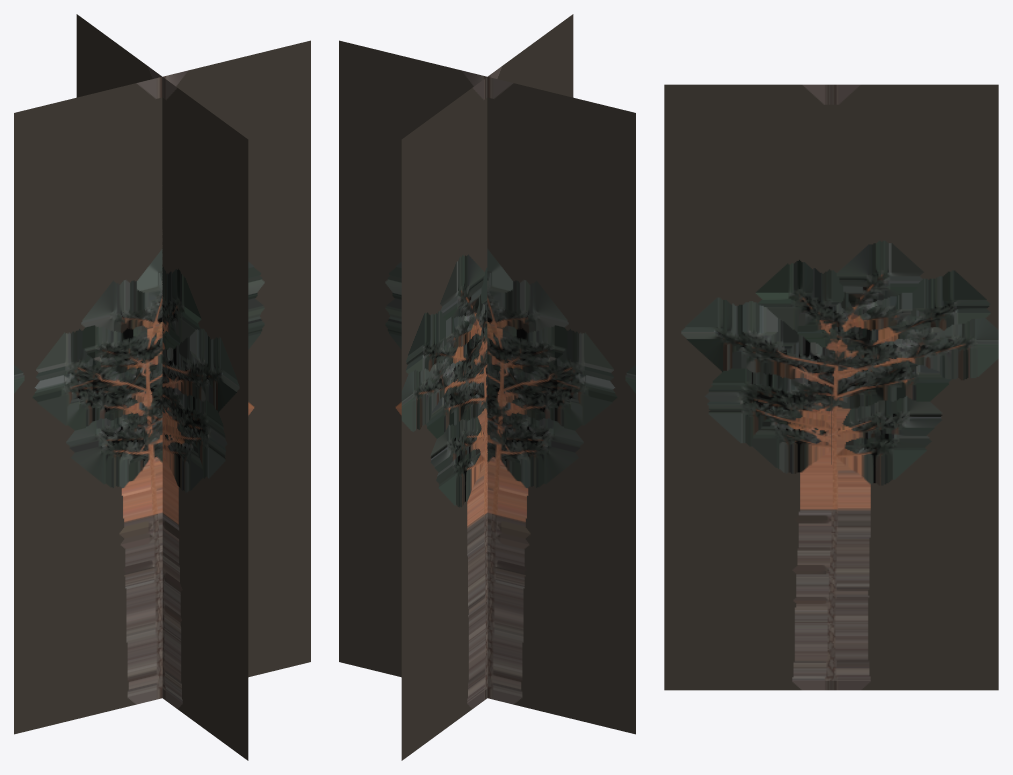
Rendered from pine_b_LOD2_billboard.fbx.
3 renders of one model, left to right at view 1: azimuth 30°, elevation 25°; view 2: azimuth 150°, elevation 25°; view 3: azimuth 270°, elevation 25°, orthographic. The views are drawn at different scales.
Visible parts, largest first — view 1: Pine_B_LOD2_Billboard; view 2: Pine_B_LOD2_Billboard; view 3: Pine_B_LOD2_Billboard.
Boxes of the visible parts, box(x1,y1,x2,y2) form: Pine_B_LOD2_Billboard: box(14, 14, 310, 760); Pine_B_LOD2_Billboard: box(339, 14, 635, 760); Pine_B_LOD2_Billboard: box(664, 84, 998, 690).
Bounding box in the file's own units: 12.87 × 25.74 × 12.87.
1 material, 1 textured.
